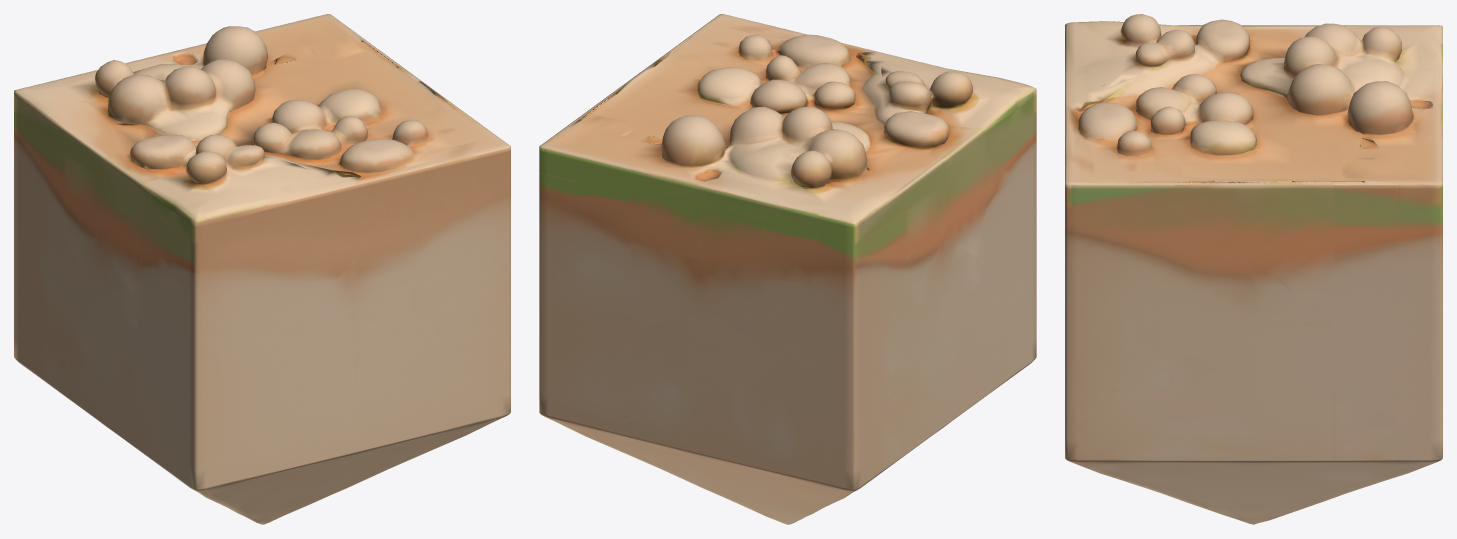
File: block.glb
The picture shows the model from 3 angles, left to right: view 1: azimuth 30°, elevation 25°; view 2: azimuth 150°, elevation 25°; view 3: azimuth 270°, elevation 25°; orthographic projection. The views are drawn at different scales.
Bounding box in the file's own units: 1.41 × 1.91 × 1.41.
1 material, 1 textured.
